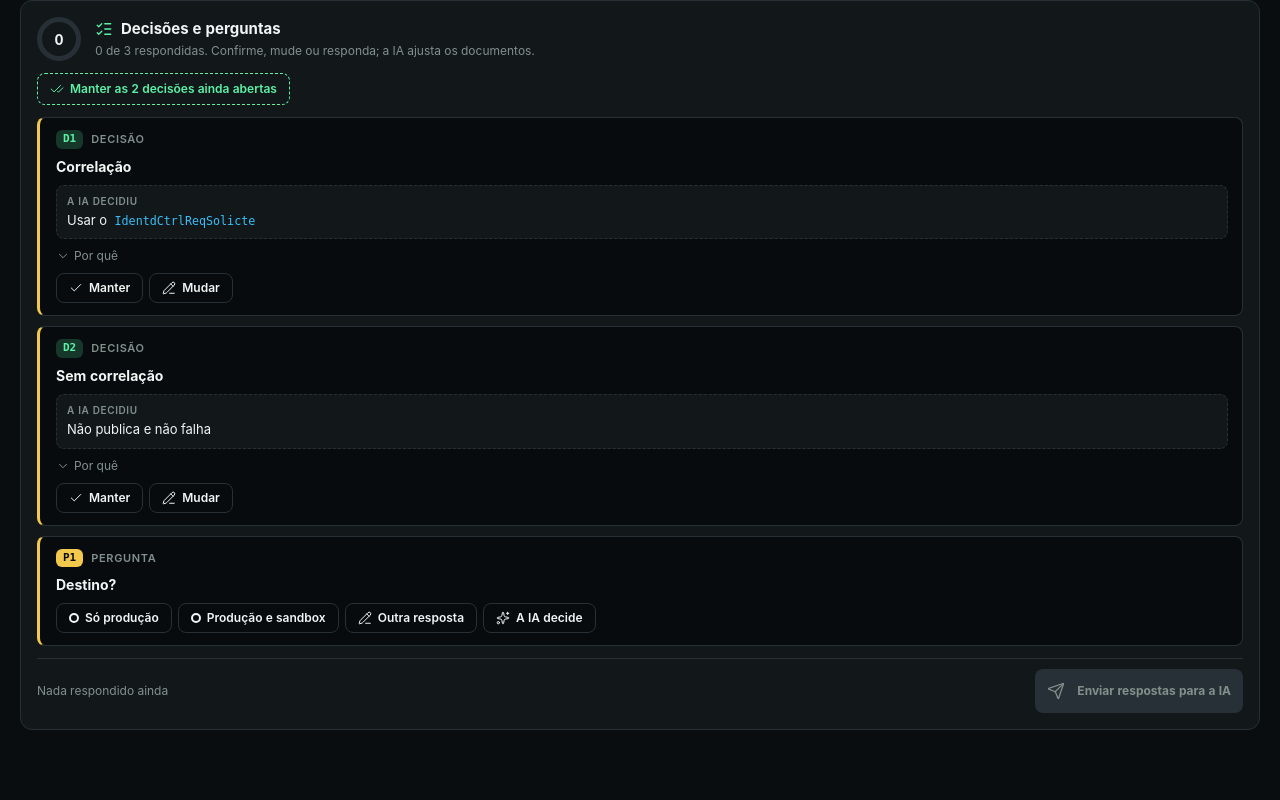
Scenario: keeps every decision still open in one click
Click the button "Manter as 2 decisões ainda abertas" at (163, 89), box [37,73,290,105]
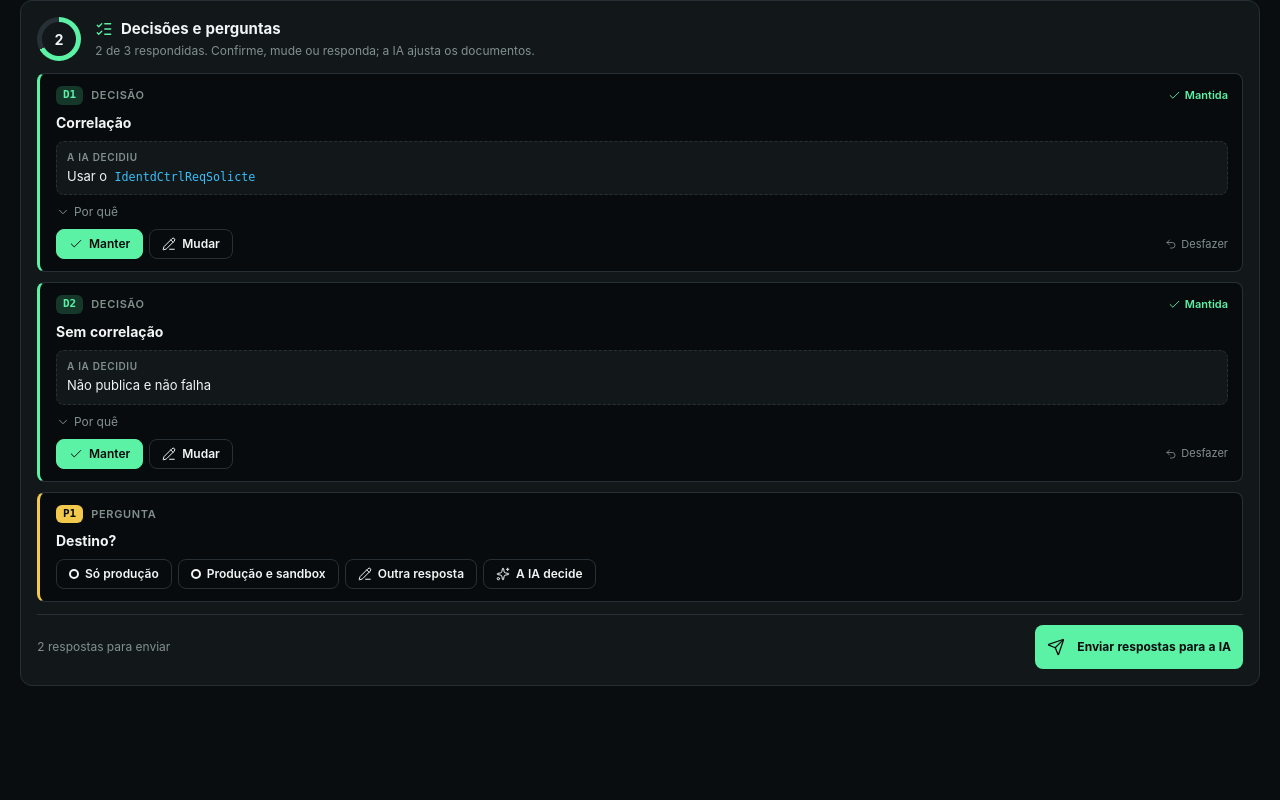
Expected: the text "Mantida" in the row of "D1" is shown, [1185,88,1228,102]
Expected: the text "Mantida" in the row of "D2" is shown, [1185,297,1228,311]
Expected: the button "Manter as" is gone
